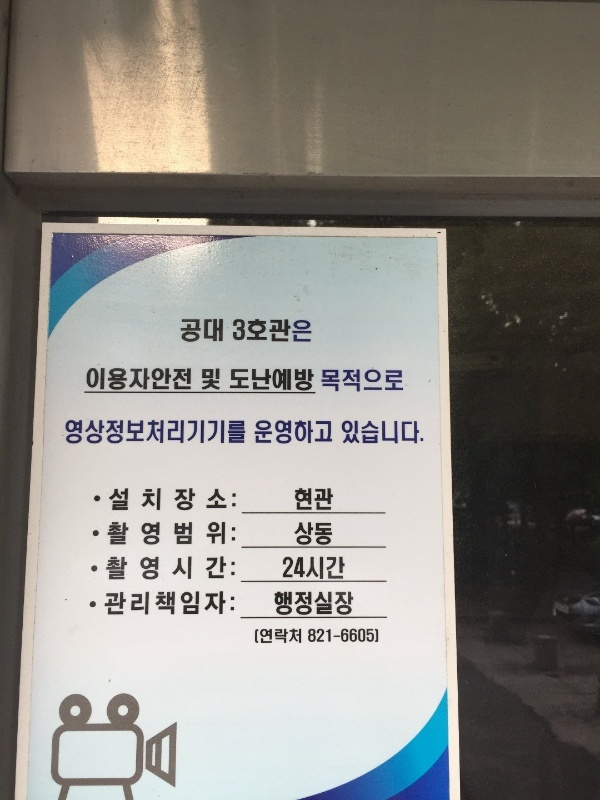text: (113, 589, 128, 618), (129, 589, 144, 618), (145, 589, 160, 618), (161, 589, 176, 618), (177, 589, 192, 618), (193, 589, 208, 618), (209, 589, 224, 618), (81, 418, 96, 447), (97, 418, 112, 447), (113, 418, 128, 447), (129, 418, 144, 447), (145, 418, 160, 447), (161, 418, 176, 447), (177, 418, 192, 447), (193, 418, 208, 447), (209, 418, 224, 447), (225, 418, 240, 447), (353, 419, 368, 447), (369, 419, 384, 447), (385, 419, 400, 447), (401, 419, 416, 447), (66, 418, 80, 447), (241, 317, 256, 344), (257, 317, 272, 344), (273, 317, 288, 344), (289, 317, 304, 344), (113, 521, 128, 547), (129, 521, 144, 547), (145, 521, 160, 547), (161, 521, 176, 547), (177, 521, 192, 547), (193, 521, 208, 547), (209, 521, 224, 547), (257, 419, 272, 445), (273, 419, 288, 445), (289, 419, 304, 445), (305, 419, 320, 445), (289, 591, 304, 617), (305, 591, 320, 617), (321, 591, 336, 617), (337, 591, 352, 617), (289, 555, 304, 581), (305, 555, 320, 581), (321, 555, 336, 581), (305, 521, 320, 547), (113, 556, 128, 581), (129, 556, 144, 581), (145, 556, 160, 581), (161, 556, 176, 581), (177, 556, 192, 581), (193, 556, 208, 581), (209, 556, 224, 581), (113, 488, 128, 513), (129, 488, 144, 513), (145, 488, 160, 513), (161, 488, 176, 513), (177, 488, 192, 513), (193, 488, 208, 513), (209, 488, 224, 513), (305, 487, 320, 512), (209, 367, 224, 392), (225, 367, 240, 392), (241, 367, 256, 392), (257, 367, 272, 392), (273, 367, 288, 392), (289, 367, 304, 392), (321, 368, 336, 393), (337, 368, 352, 393), (353, 368, 368, 393), (369, 368, 384, 393), (385, 368, 400, 393), (193, 318, 208, 343), (209, 318, 224, 343), (274, 591, 288, 617), (97, 367, 112, 391), (113, 367, 128, 391), (129, 367, 144, 391), (145, 367, 160, 391), (161, 367, 176, 391), (177, 367, 192, 391), (321, 419, 334, 445), (225, 521, 237, 547), (321, 521, 333, 547), (225, 488, 237, 513), (321, 487, 333, 512), (180, 318, 192, 343), (225, 589, 235, 618), (342, 419, 352, 447), (225, 556, 236, 581), (257, 627, 272, 645), (273, 627, 288, 645), (294, 521, 304, 547), (321, 627, 336, 644), (337, 627, 352, 644), (353, 627, 368, 644), (294, 487, 304, 512), (305, 367, 315, 392), (289, 627, 302, 645), (337, 555, 346, 581), (104, 589, 112, 618), (87, 367, 96, 391), (308, 627, 320, 644), (417, 419, 424, 447), (233, 317, 240, 344), (305, 317, 312, 344), (241, 418, 247, 447), (369, 627, 379, 644), (106, 556, 112, 581), (202, 367, 208, 392), (108, 521, 112, 547), (284, 555, 288, 581), (109, 488, 112, 513), (401, 368, 404, 393), (254, 627, 256, 645), (353, 591, 354, 617)
